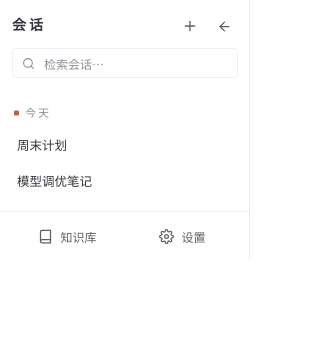
SessionSidebar 会话搜索 › 全文搜索：结果按会话聚合展示标题、条数与角色标签
Type "量子" into the field with class "search-input". click: x=135, y=63
box: [42,54,228,72]
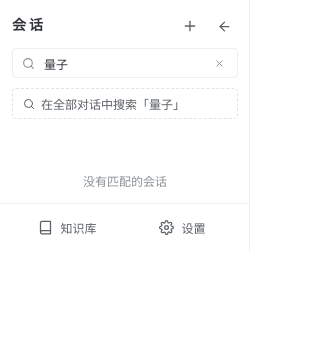
Click the button with class "fulltext-entry". click: x=125, y=104
box: [12,88,238,119]
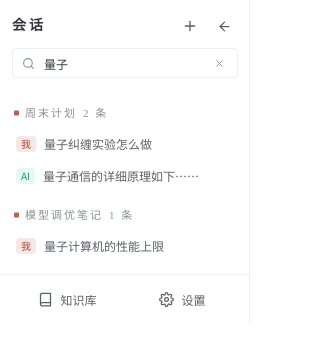
Result: the element with class "search-group-label" shows "周末计划" at [25,107,77,119]
Result: the text with class "search-group-count" shows "2" at [83,107,108,119]
Result: the element with class "search-group-label" shows "模型调优笔记" at [25,209,103,221]
